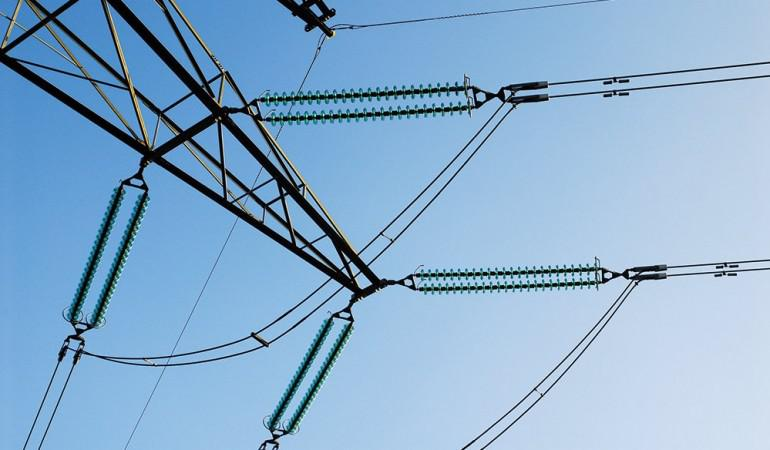isolator: (67, 186, 150, 327), (265, 317, 355, 433), (263, 81, 473, 126), (417, 263, 600, 297)
